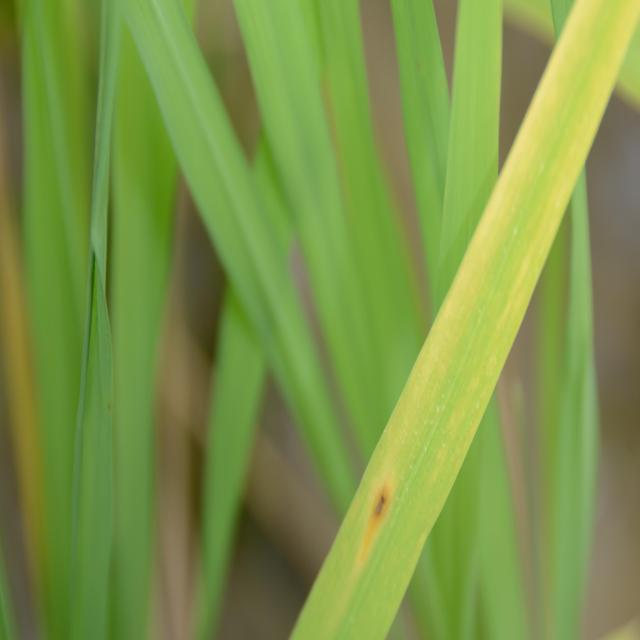Rice Tungro: (432, 25, 619, 397), (332, 339, 482, 631)
